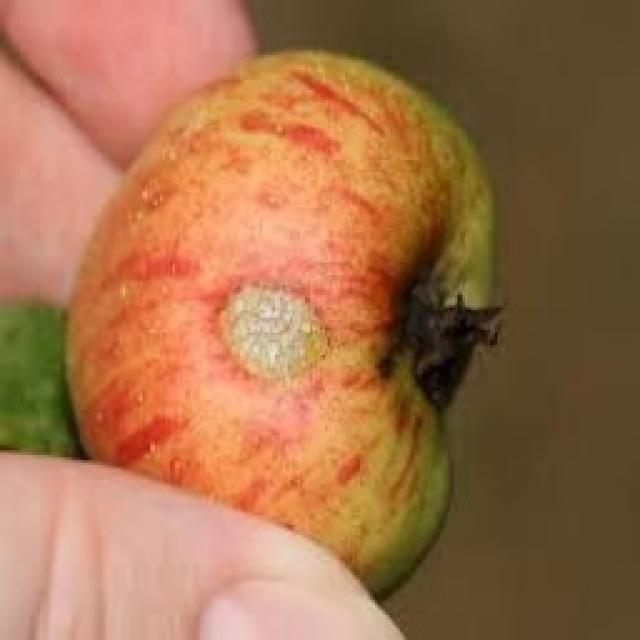defective: (58, 45, 505, 602)
